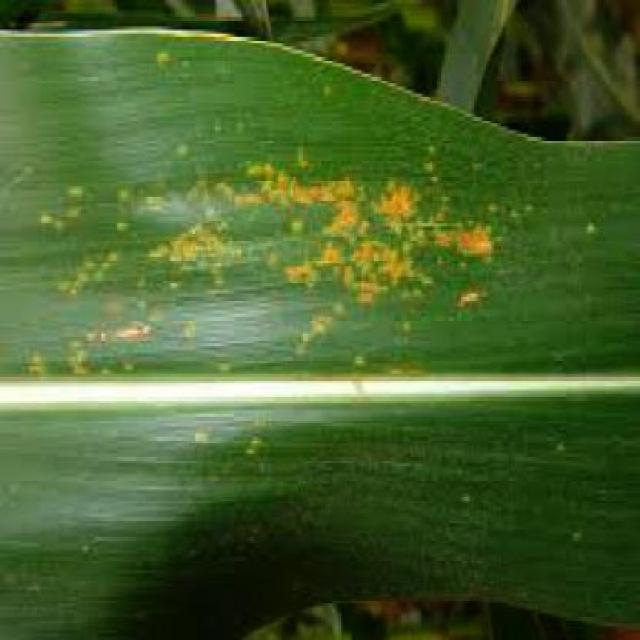Corn_Rust: (0, 23, 565, 454)
